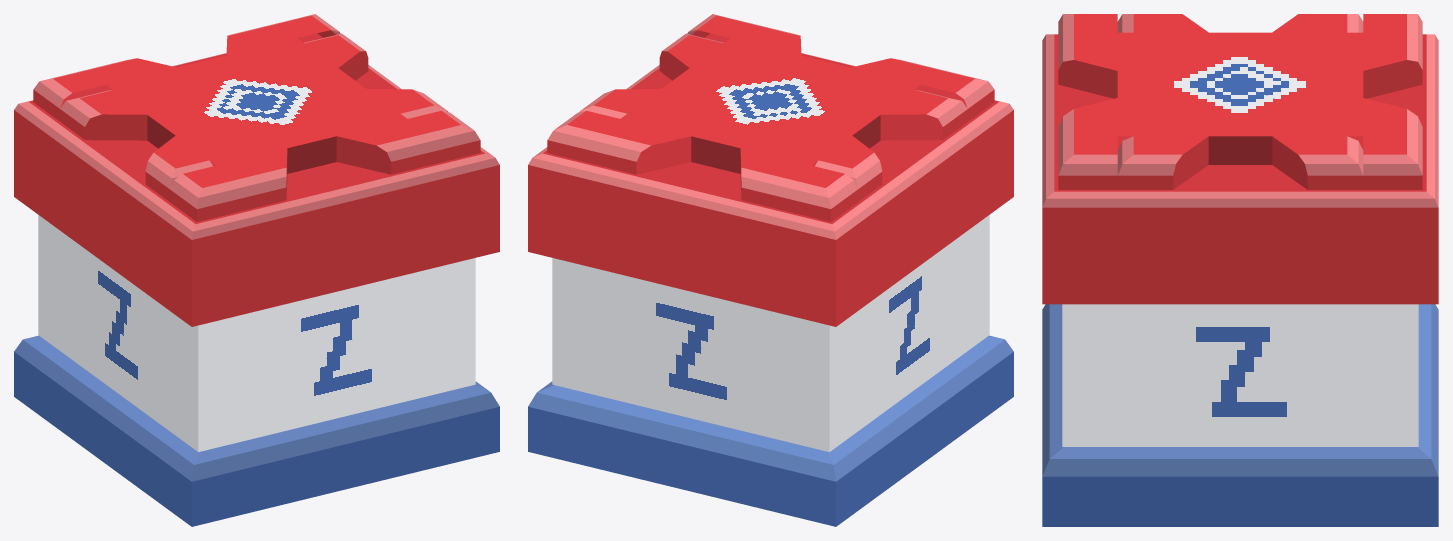
Rendered from aero_block_ref.glb.
3 renders of one model, left to right at view 1: azimuth 30°, elevation 25°; view 2: azimuth 150°, elevation 25°; view 3: azimuth 270°, elevation 25°, orthographic. The views are drawn at different scales.
Parts seen in each view (by area): view 1: aero_block; view 2: aero_block; view 3: aero_block.
Boxes of the visible parts, box(x1,y1,x2,y2) form: aero_block: box(14, 14, 499, 526); aero_block: box(528, 14, 1013, 526); aero_block: box(1042, 14, 1438, 526).
Size of the model in its own units: 1 by 1 by 1.
Materials: 1 (1 with a texture image).
